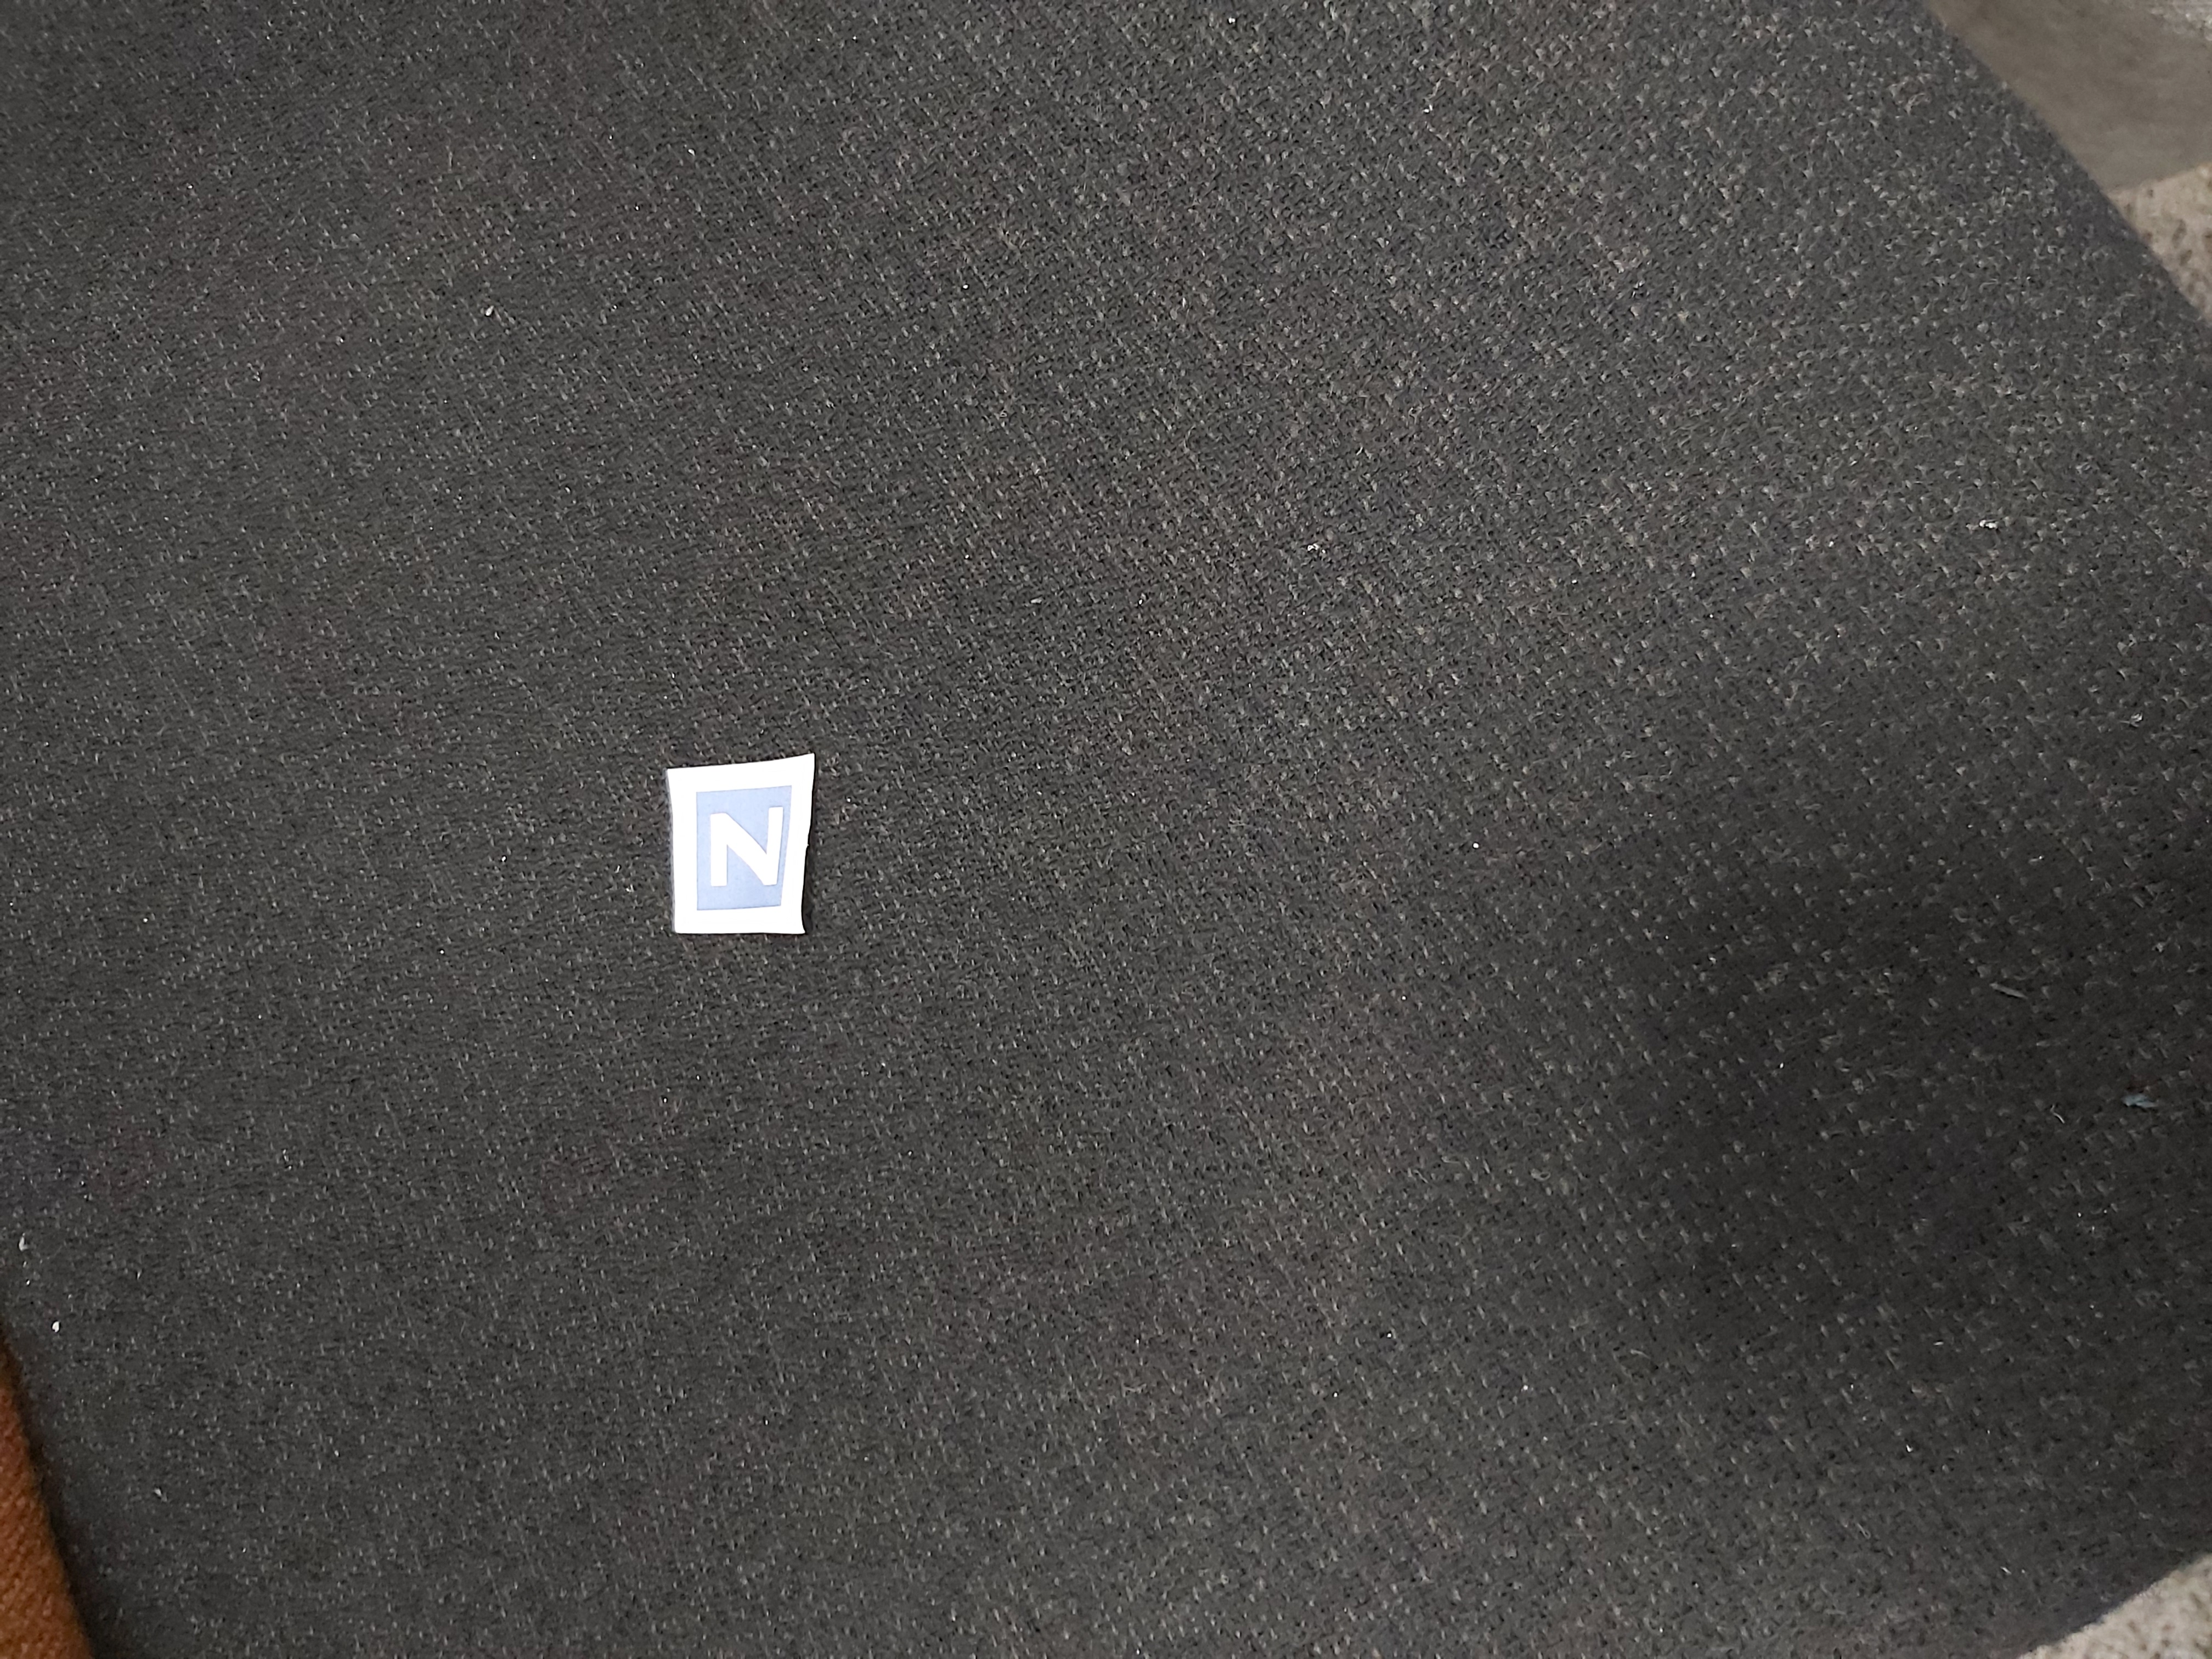blue marker: (657, 748, 829, 945)
